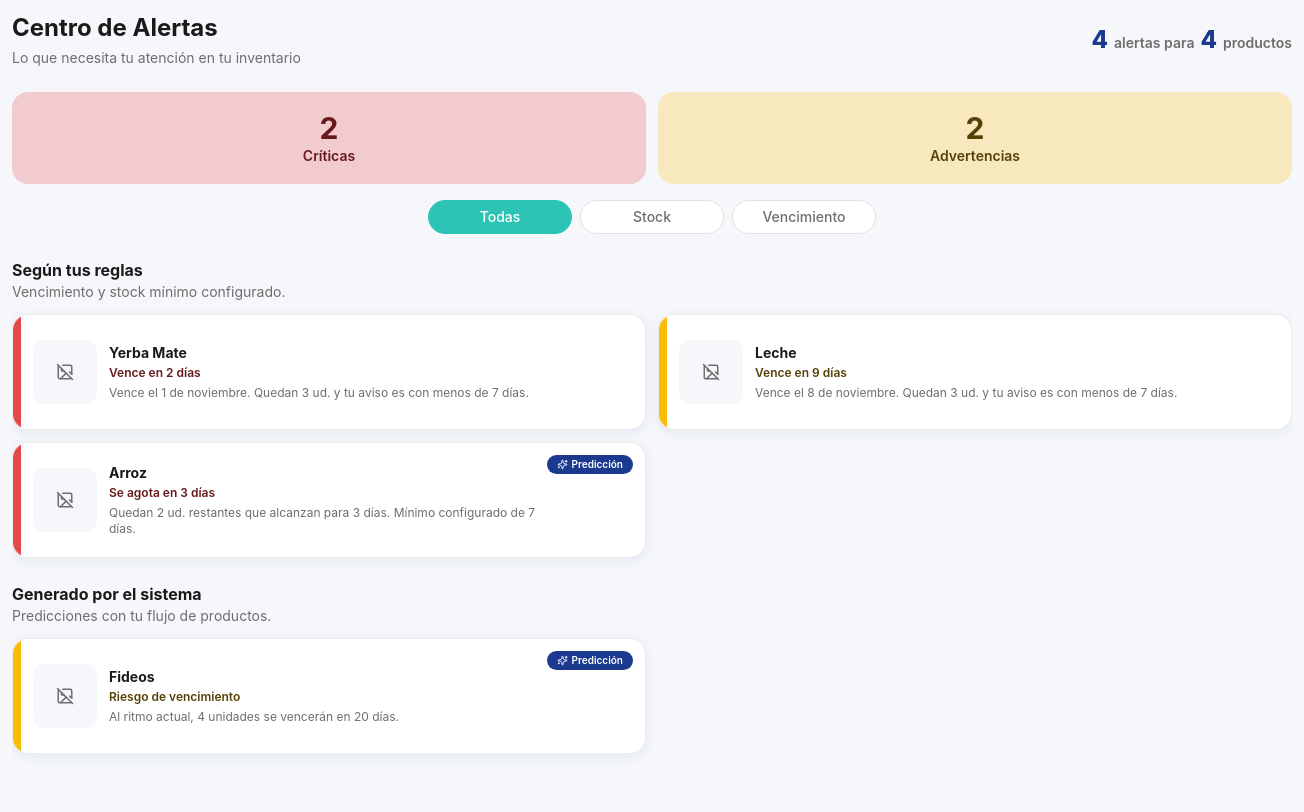
Test case: Alertas (Centro de Alertas) › las opciones son Todas, Stock y Vencimiento, y los números siguen a la opción elegida
Expected: the button with test id "alert-item-expiry-1" is shown, [12,314,646,430]
Step 1. Click the button with test id "alert-filter-stock" → (652, 217), box [580,200,724,234]
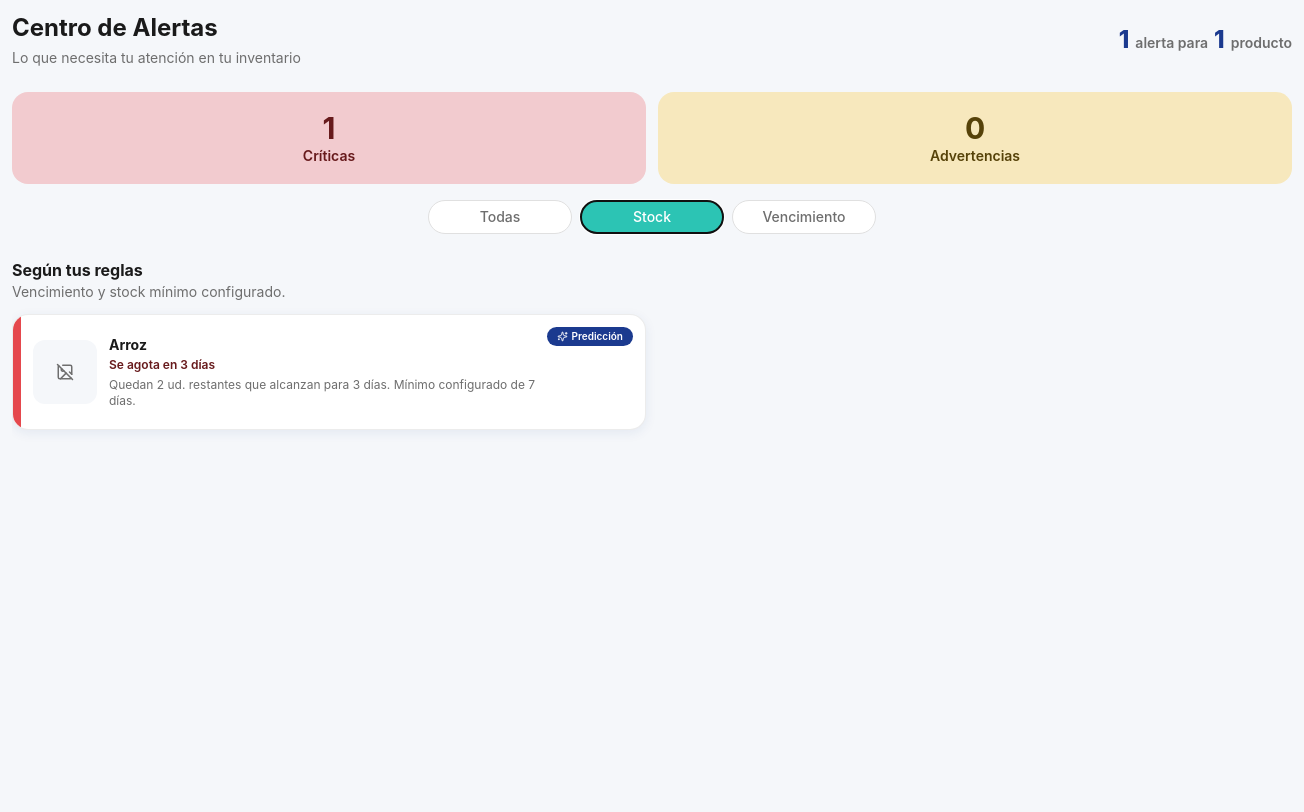
Expected: the text with test id "alert-count-critical" reads "1", [322,110,335,146]
Expected: the text with test id "alert-count-warning" reads "0", [965,110,985,146]
Step 2. Click the button with test id "alert-filter-vencimiento" → (804, 217), box [732,200,876,234]
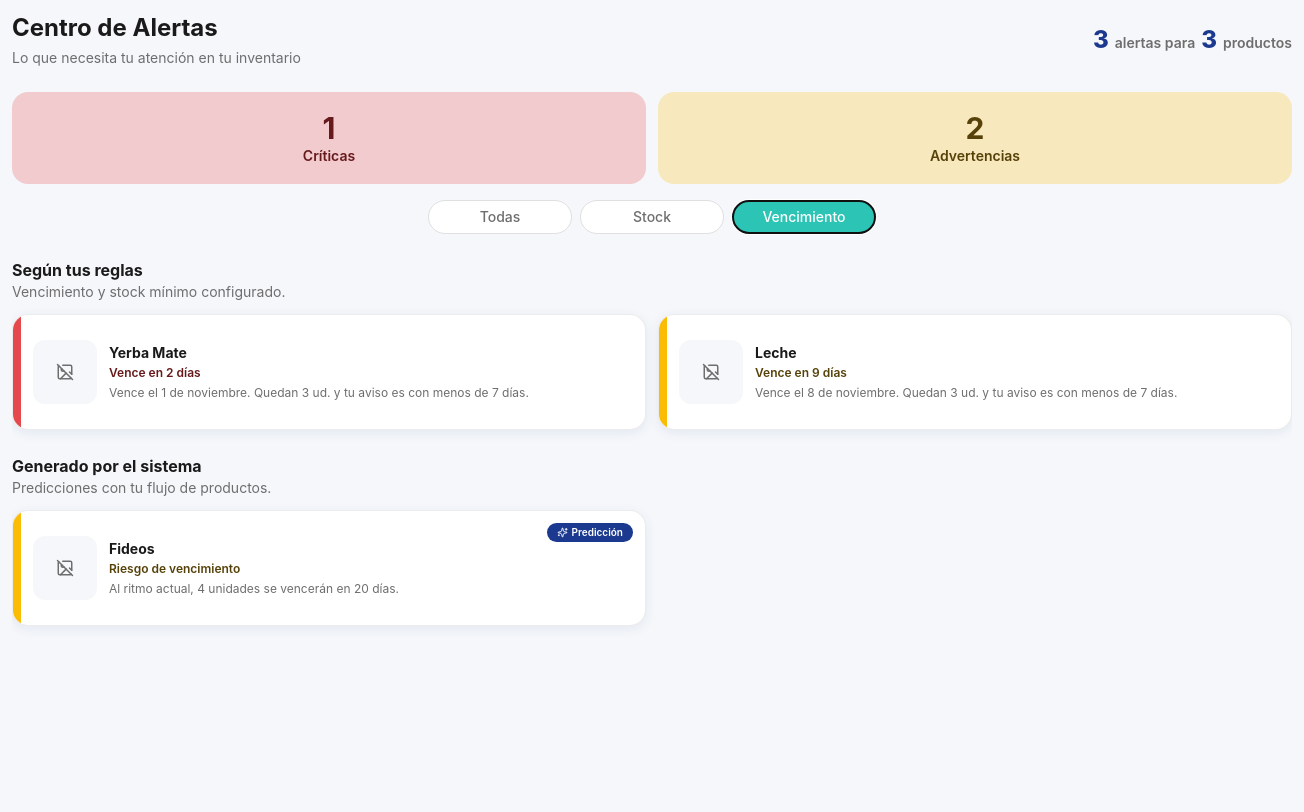
Expected: the text with test id "alert-count-warning" reads "2", [966,110,984,146]
